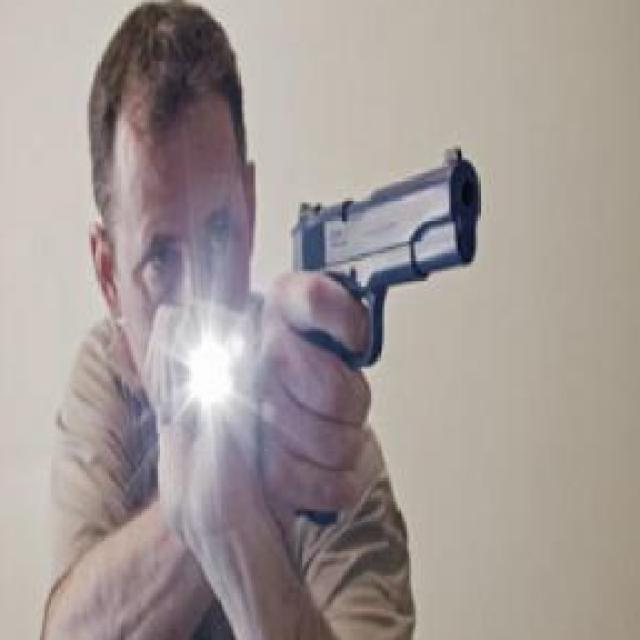pistol: (278, 138, 487, 533)
